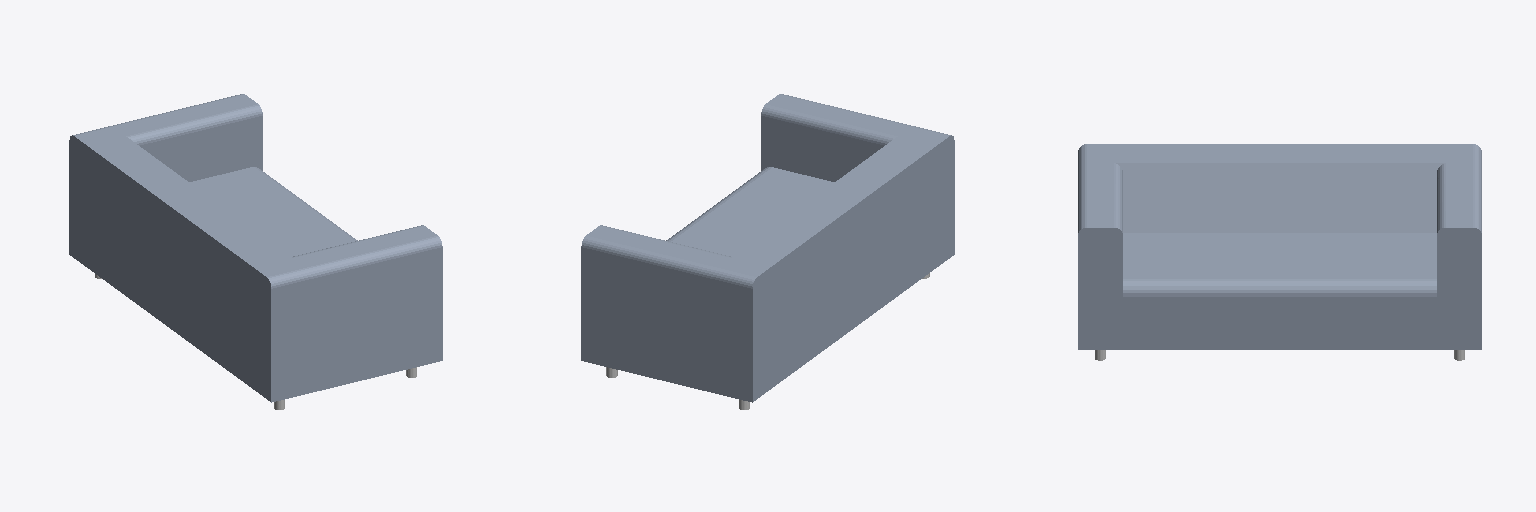
Rendered from klippan_sofa.obj.
3 renders of one model, left to right at view 1: azimuth 30°, elevation 25°; view 2: azimuth 150°, elevation 25°; view 3: azimuth 270°, elevation 25°, orthographic.
Visible parts, largest first — view 1: Mesh1 Model; view 2: Mesh1 Model; view 3: Mesh1 Model.
Part boxes in pixels (x1,y1,x2,y2): Mesh1 Model: (69, 94, 442, 409); Mesh1 Model: (581, 94, 954, 409); Mesh1 Model: (1078, 144, 1481, 360).
Size of the model in its own units: 880 by 690 by 1800.